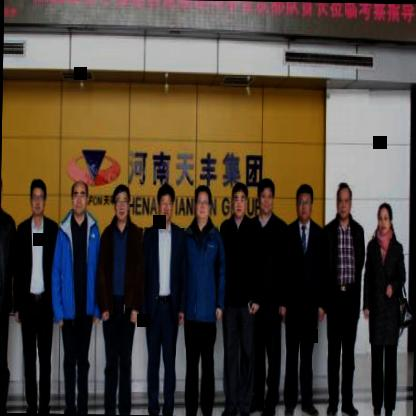head: (156, 178, 180, 234), (191, 180, 215, 233), (110, 180, 134, 230), (67, 176, 91, 226), (291, 181, 315, 226), (25, 176, 49, 220), (226, 179, 247, 227), (254, 176, 276, 219), (374, 200, 394, 239), (334, 180, 354, 216), (0, 168, 6, 214)
